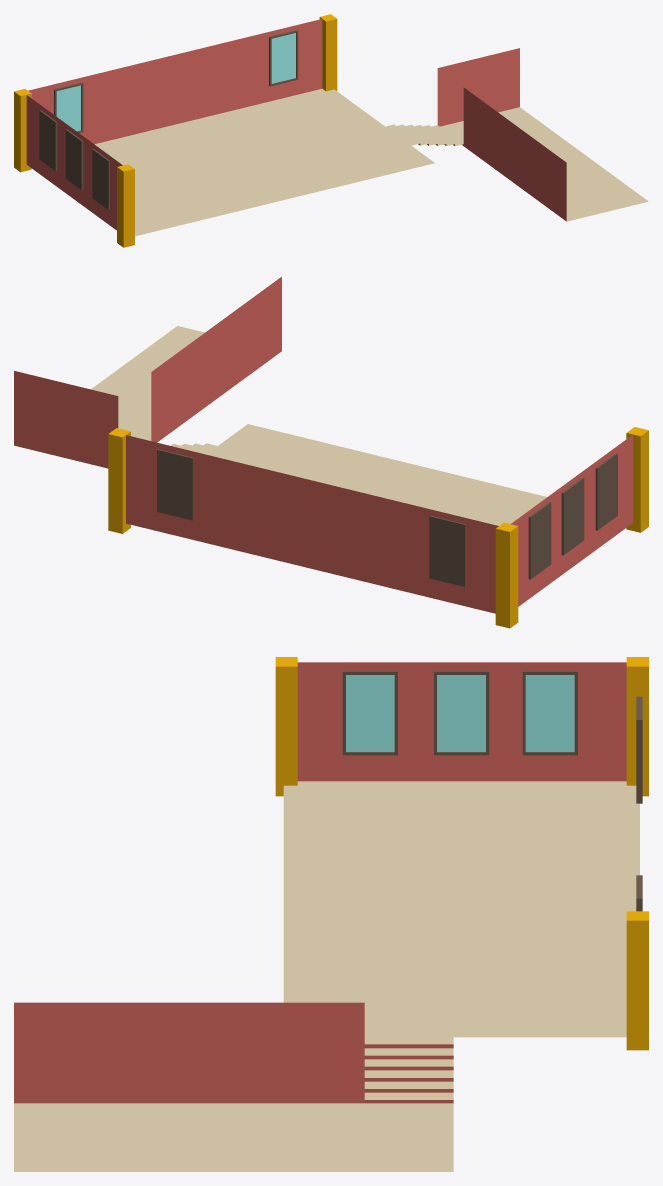
The model's file is Millenium.fbx.
The picture shows the model from 3 angles, top to bottom: view 1: azimuth 30°, elevation 25°; view 2: azimuth 150°, elevation 25°; view 3: azimuth 270°, elevation 25°; orthographic projection. The views are drawn at different scales.
Visible parts, largest first — view 1: terrainBeuverie; view 2: terrainBeuverie; view 3: terrainBeuverie.
Part boxes in pixels (x1=…): terrainBeuverie: x1=14, y1=14, x2=648, y2=247; terrainBeuverie: x1=14, y1=276, x2=648, y2=628; terrainBeuverie: x1=14, y1=657, x2=648, y2=1171.
Size of the model in its own units: 3190 by 565 by 2295.
